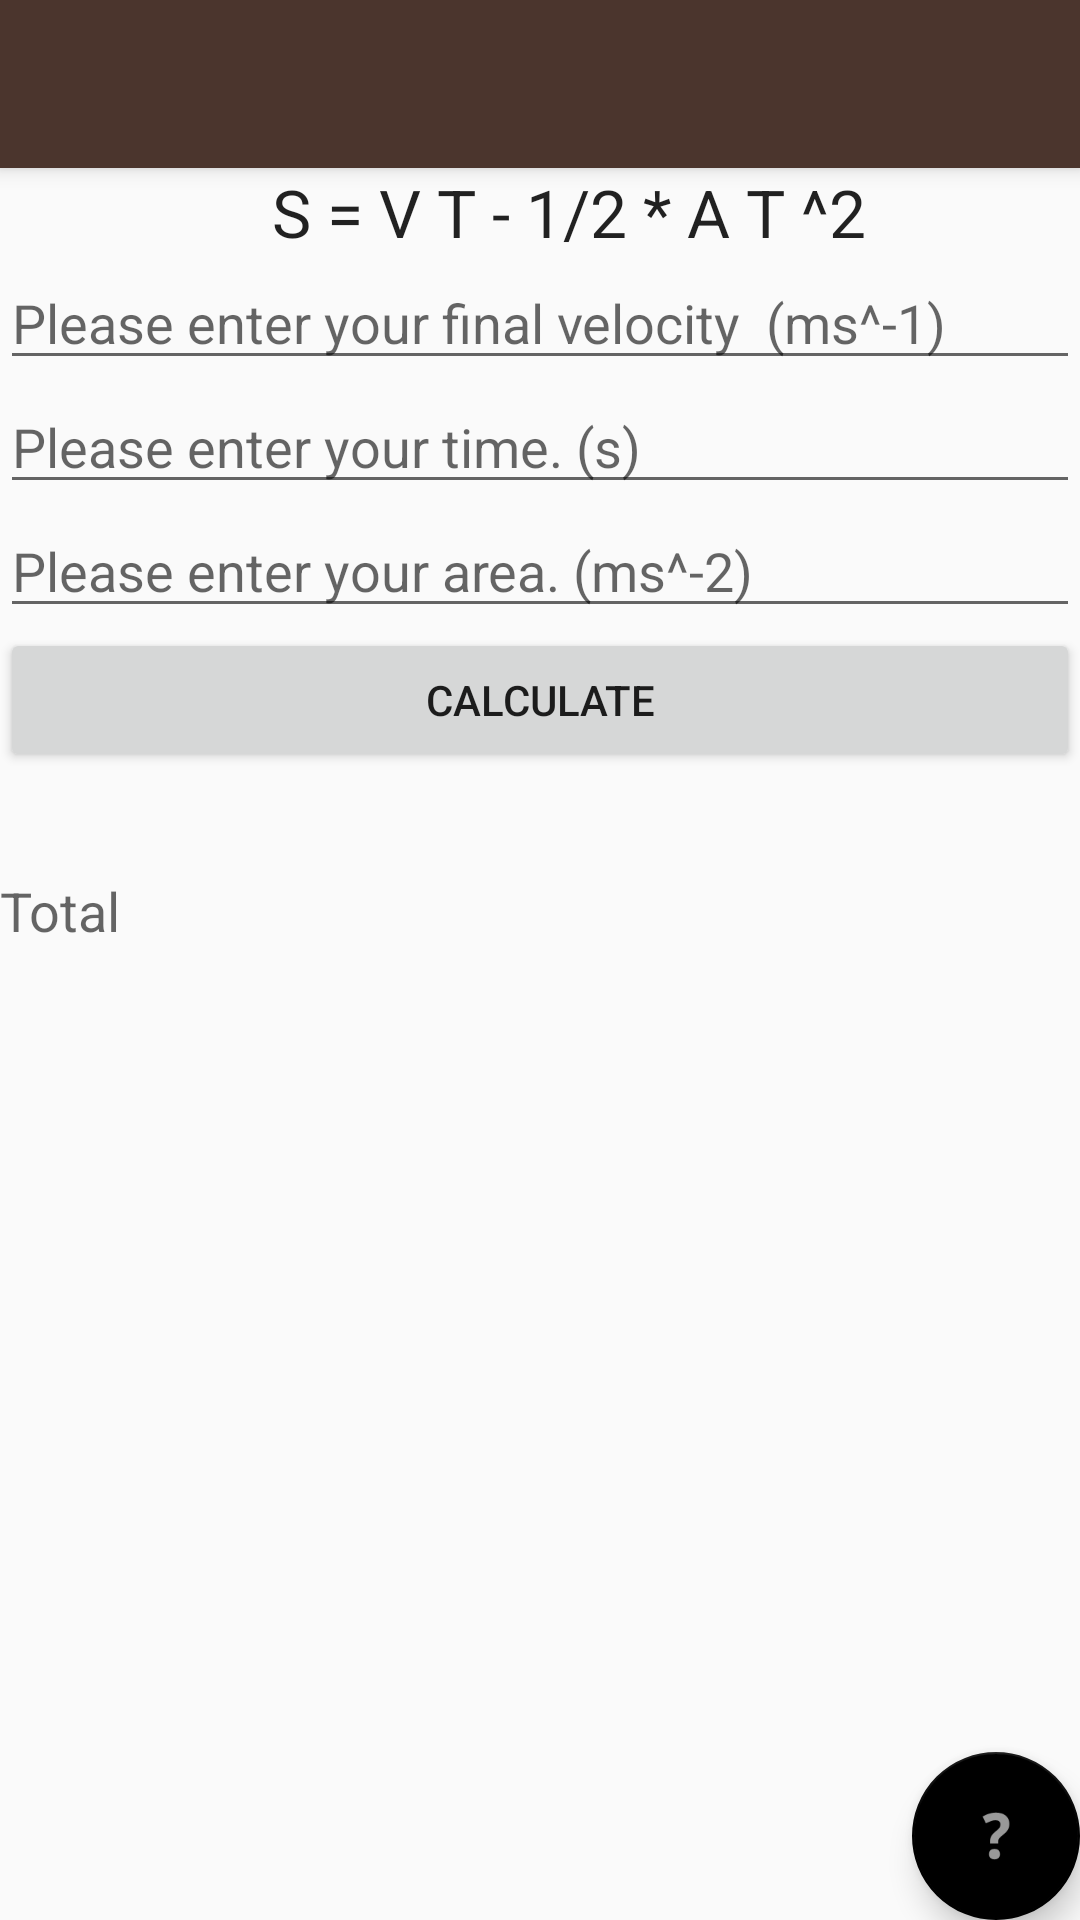

Point at icon controls on the screen. Image size 1080*1920, points as [x,y].
help: [996,1836]
